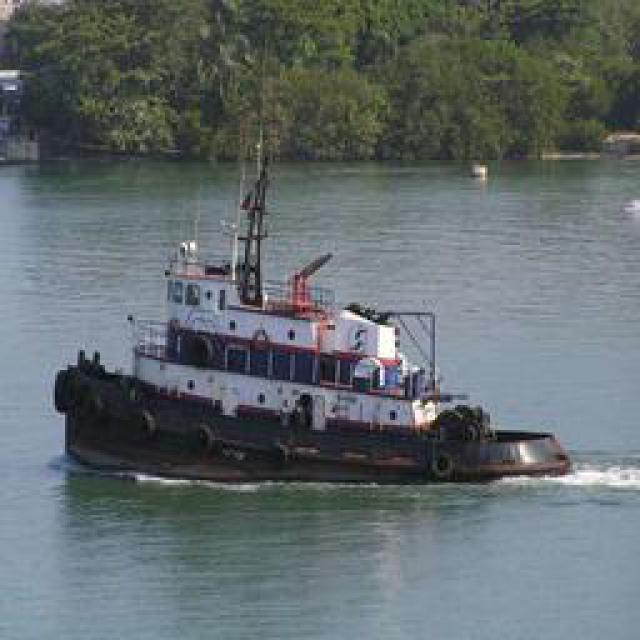Ship: (47, 177, 565, 477)
